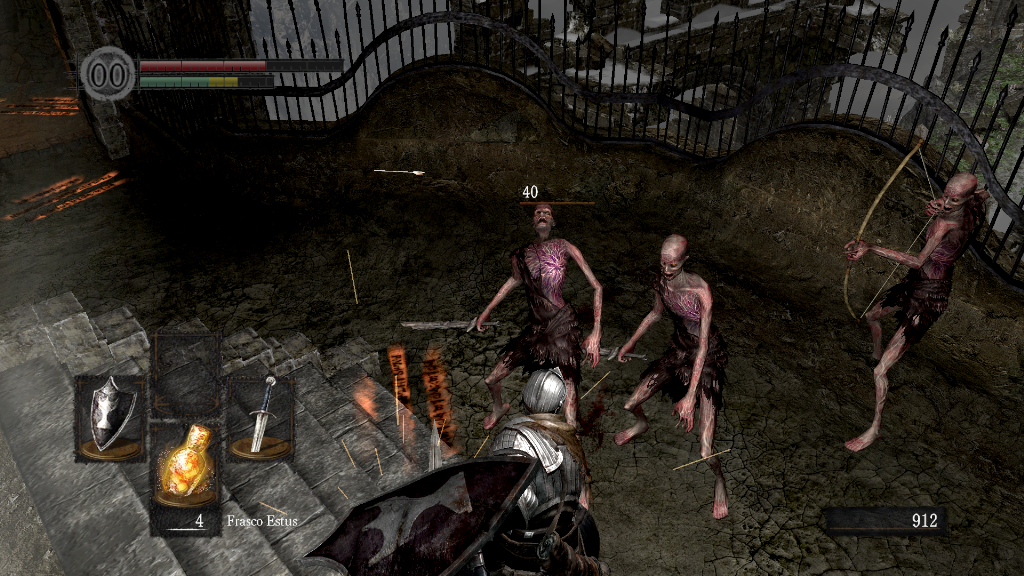health: (138, 58, 343, 71)
hollow: (842, 135, 977, 451), (614, 234, 737, 518), (470, 202, 606, 431)
humanity: (80, 45, 136, 102)
player: (304, 364, 610, 576)
souls: (825, 506, 945, 536)
stamina: (138, 74, 274, 88)
